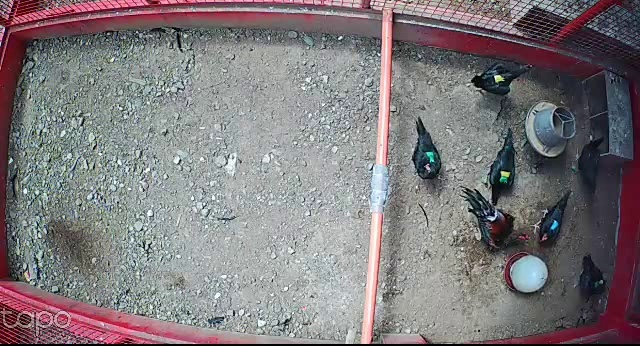Chicken: (481, 128, 519, 207), (528, 187, 574, 247), (468, 61, 534, 97), (569, 135, 605, 196), (410, 116, 443, 182), (574, 253, 609, 296)
Drinker: (503, 252, 549, 294)
Feeder: (525, 100, 576, 158)
Rooster: (459, 184, 531, 252)
Saddle_Color_Blue: (551, 219, 560, 231)
Saddle_Color_Yellow: (494, 73, 504, 83)
Saddle_Color_YellowGreen: (500, 169, 511, 182)
